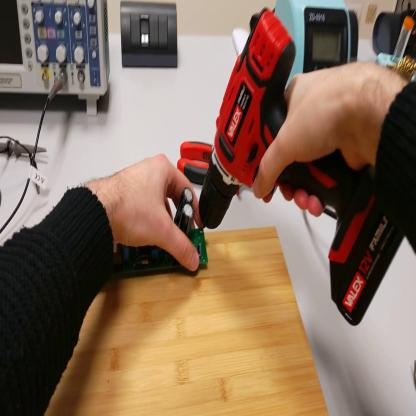electric screwdriver: (198, 8, 404, 329)
hand: (255, 62, 381, 209), (94, 155, 204, 273)
high voltage board: (113, 192, 211, 266)
oscilloscope: (2, 3, 108, 116)
oscilloscope probe tip: (2, 139, 47, 161)
socket: (374, 9, 416, 60), (350, 12, 360, 64)
welder base: (379, 19, 416, 85)
welder station: (276, 1, 350, 80)
working area: (46, 227, 330, 416)
